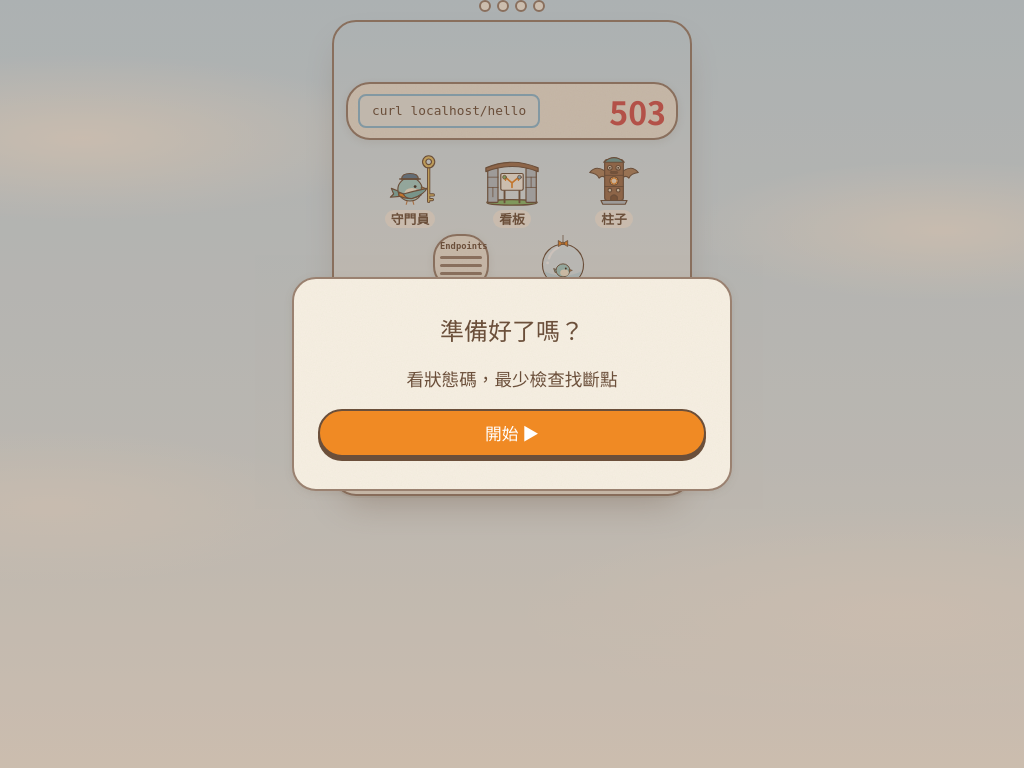
Test: Day17Game › 名單斷掉的回合，泡泡站顯示 Readiness 未過
The image size is (1024, 768).
Click the button with test id "shell-start" at (512, 433), box [318,409,706,457]
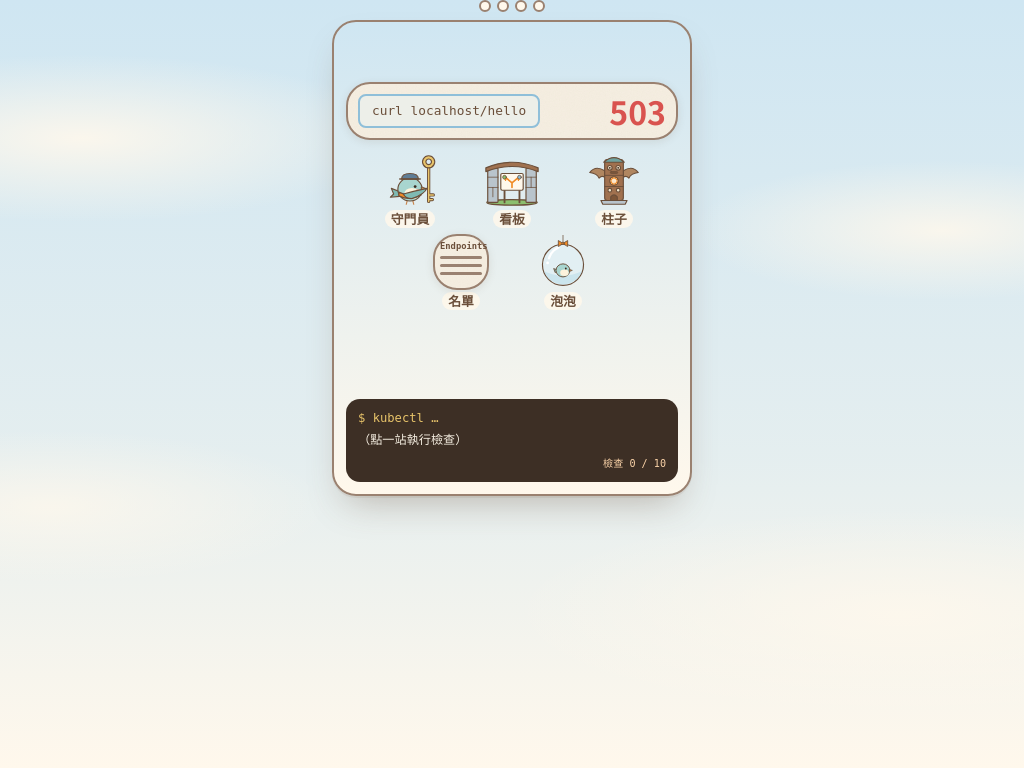
Click the button "泡泡" at (563, 272), box [535,234,591,310]
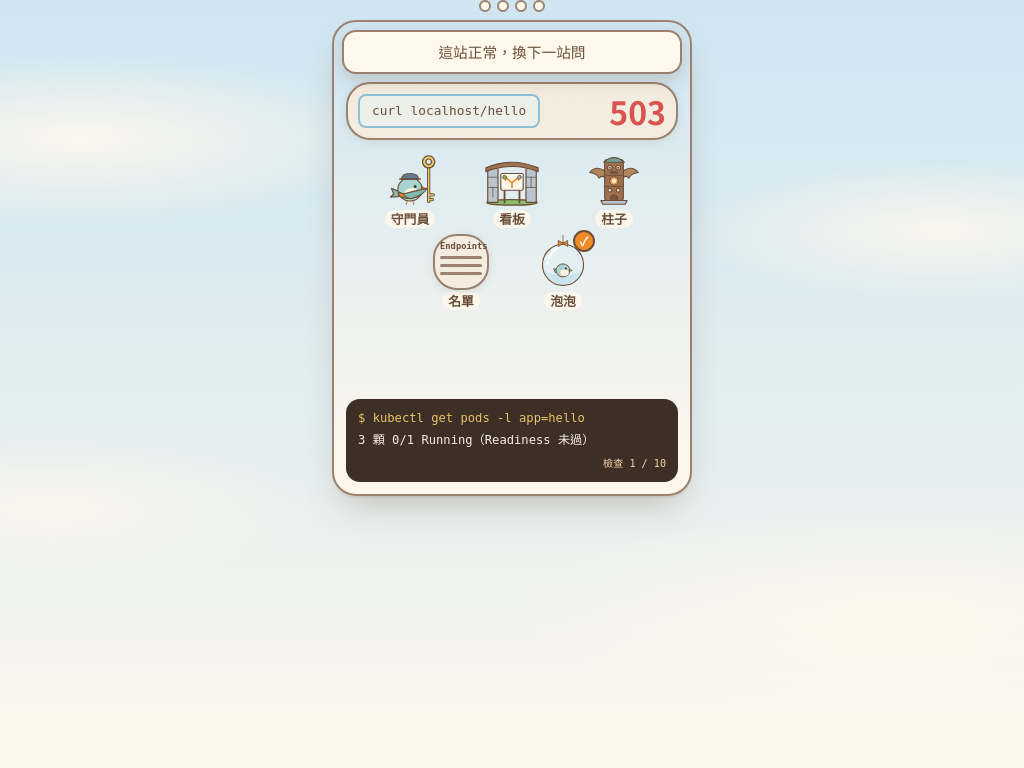
Expected: the element with class "terminal" shows "0/1 Running（Readiness 未過）", [358,432,594,446]
